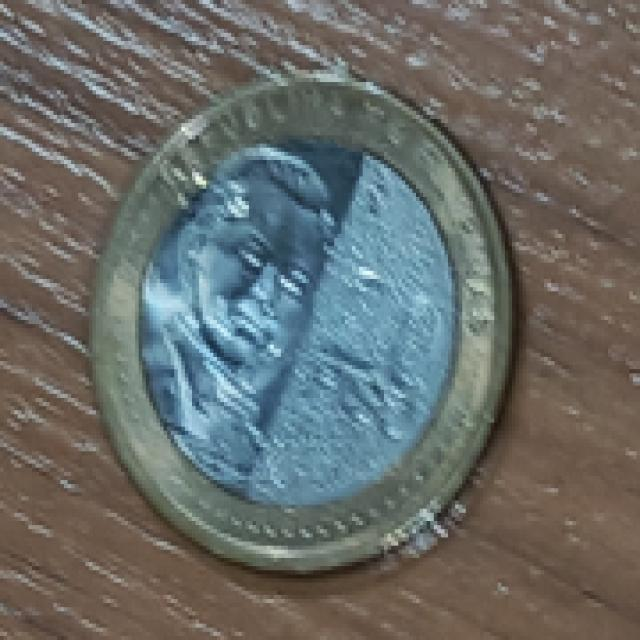20_peso: (92, 74, 508, 566)
